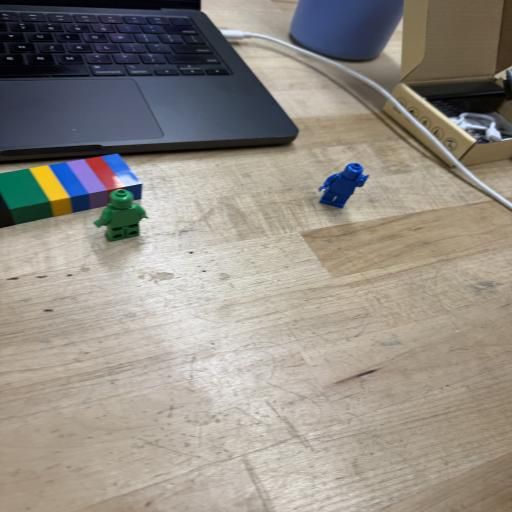blue-minifig: (319, 163, 368, 208)
green-minifig: (94, 189, 147, 241)
